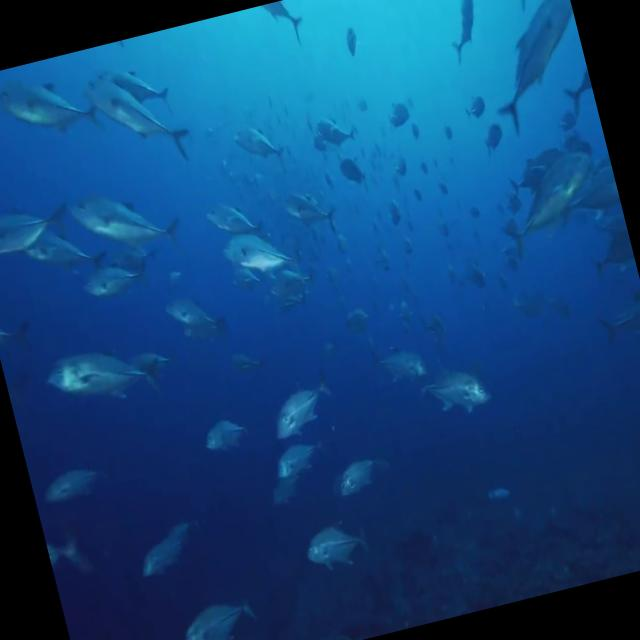fish: (476, 0, 599, 139), (84, 54, 196, 178), (62, 174, 188, 284), (0, 52, 106, 157), (36, 336, 164, 419), (0, 197, 76, 259)
